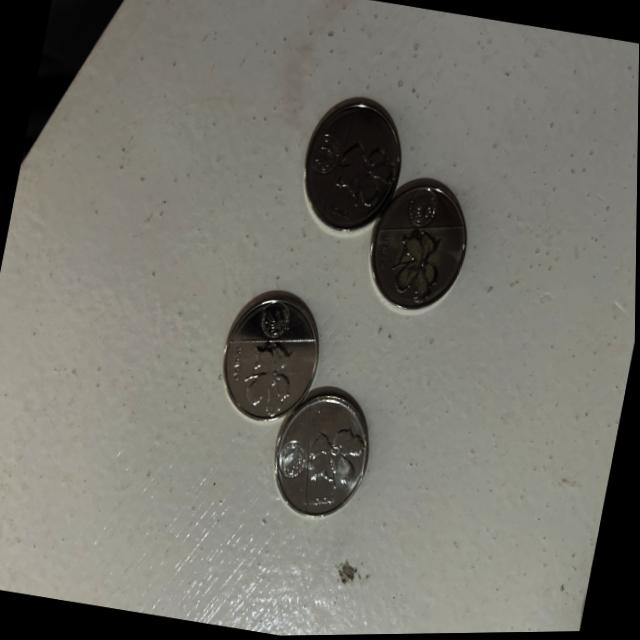25Cent_New_Back: (235, 334, 308, 420), (300, 415, 374, 493), (327, 131, 398, 211), (384, 225, 456, 303)
